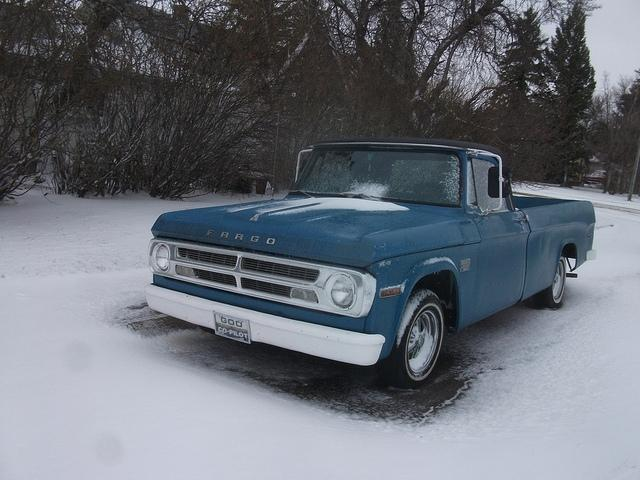truck: (141, 142, 598, 381)
